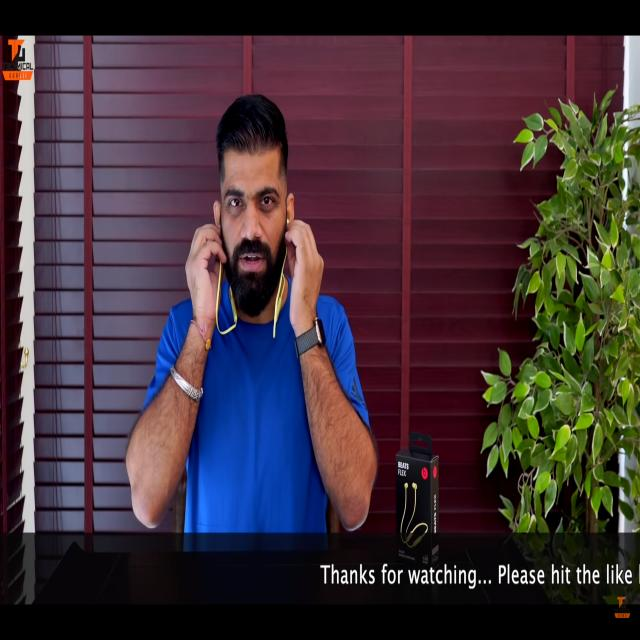Neckband: (216, 218, 290, 339)
